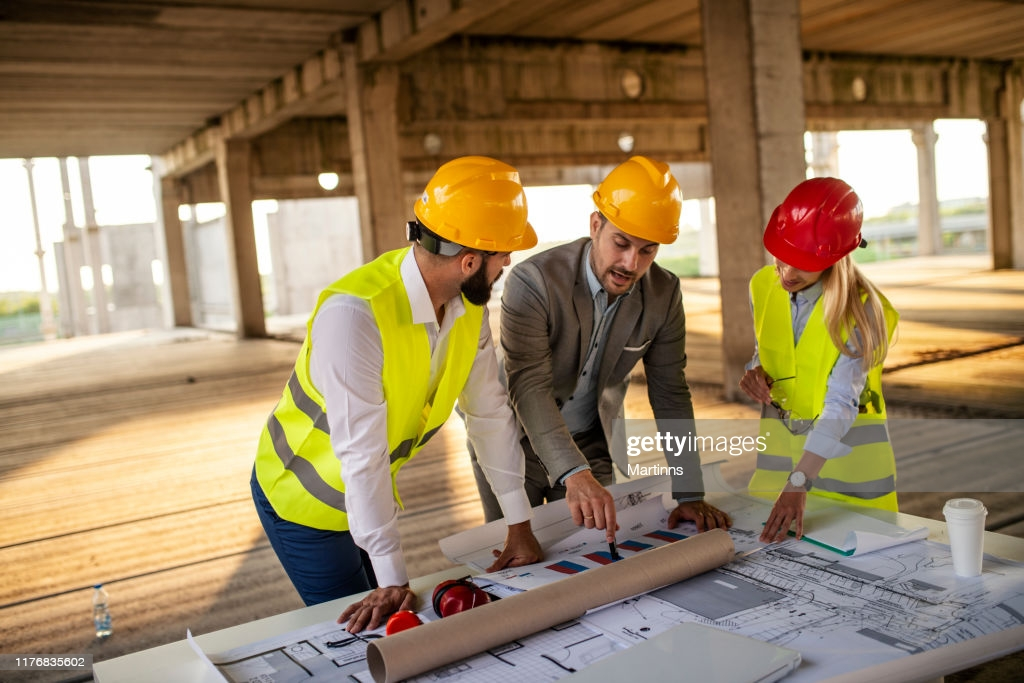With Helmet: (403, 157, 542, 306), (589, 155, 688, 295), (763, 177, 870, 298)
